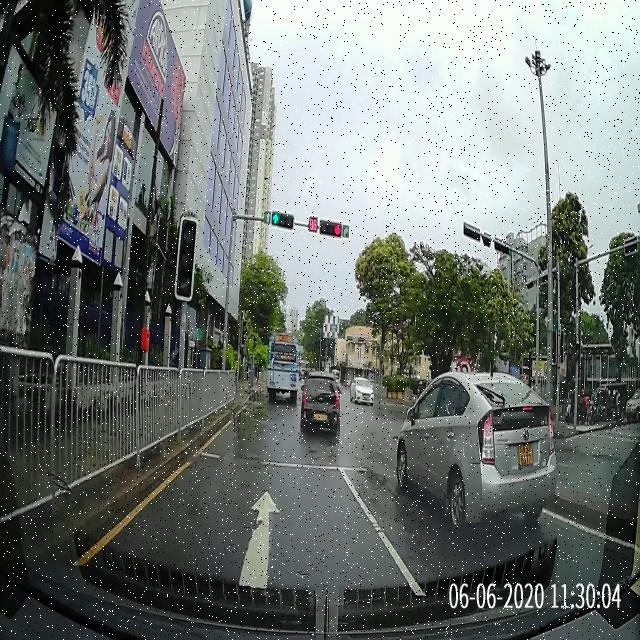forward: (73, 468, 424, 595)
